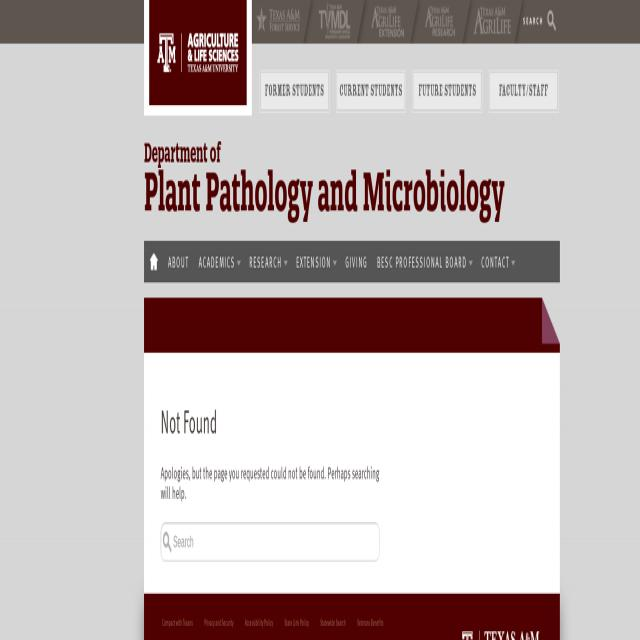button: (144, 0, 252, 115), (376, 240, 472, 282), (490, 73, 557, 109), (261, 73, 328, 109), (414, 73, 481, 109), (338, 73, 404, 109), (252, 0, 304, 44), (417, 0, 464, 44), (366, 0, 412, 44), (470, 0, 516, 44), (312, 0, 357, 44), (198, 240, 240, 282), (295, 240, 337, 282), (248, 240, 288, 282), (520, 0, 559, 40), (480, 240, 515, 282), (344, 240, 368, 282), (167, 240, 190, 282), (148, 240, 160, 270)
field: (160, 523, 380, 561)
